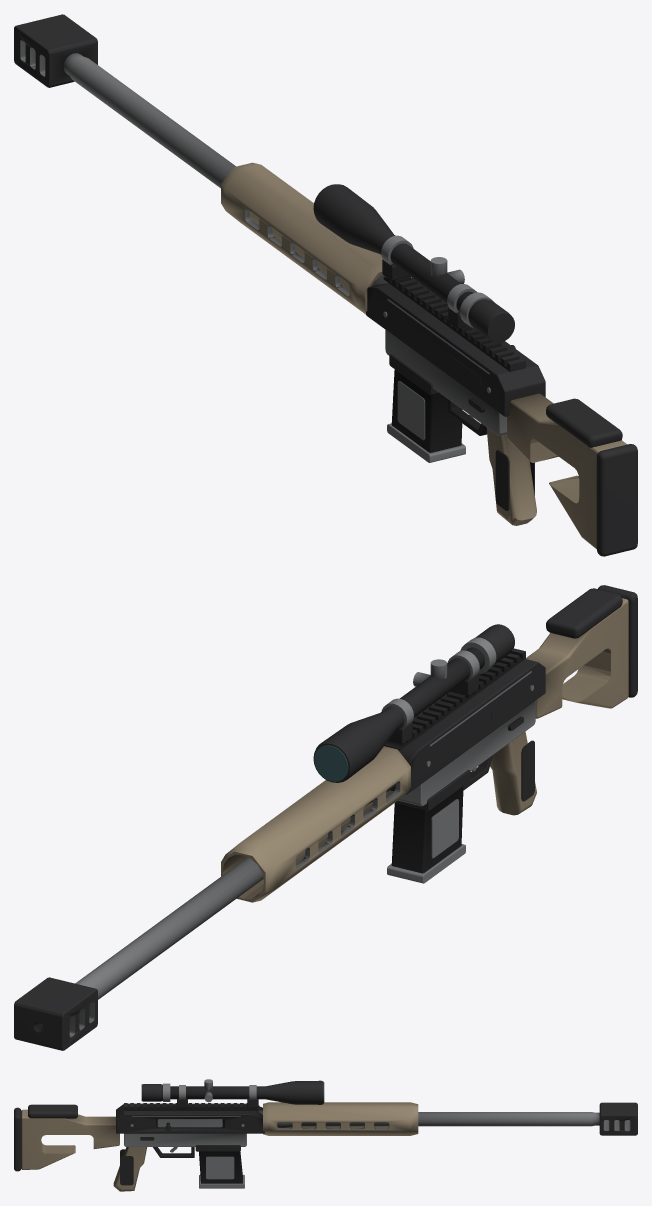
Rendered from ironwood_50.glb.
3 renders of one model, top to bottom at view 1: azimuth 30°, elevation 25°; view 2: azimuth 150°, elevation 25°; view 3: azimuth 270°, elevation 25°, orthographic. The views are drawn at different scales.
Visible parts, largest first — view 1: Receiver, Stock, Optic, Barrel, Magazine, MuzzleBrake; view 2: Receiver, Stock, Optic, Barrel, Magazine, MuzzleBrake, OpticGlass; view 3: Receiver, Stock, Optic, Barrel, Magazine, MuzzleBrake, Bolt.
Boxes of the visible parts, <box> form: Receiver: <box>221,162,545,525</box>; Stock: <box>507,393,637,556</box>; Optic: <box>313,184,514,342</box>; Barrel: <box>63,53,387,286</box>; Magazine: <box>387,369,465,462</box>; MuzzleBrake: <box>14,14,97,87</box>; Receiver: <box>221,648,545,902</box>; Stock: <box>526,585,637,718</box>; Optic: <box>313,624,514,782</box>; Barrel: <box>75,783,395,999</box>; Magazine: <box>387,786,465,883</box>; MuzzleBrake: <box>14,977,97,1050</box>; OpticGlass: <box>314,745,348,781</box>; Receiver: <box>113,1102,418,1191</box>; Stock: <box>14,1104,119,1171</box>; Optic: <box>141,1079,323,1107</box>; Barrel: <box>259,1110,599,1127</box>; Magazine: <box>199,1151,244,1188</box>; MuzzleBrake: <box>599,1102,637,1135</box>; Bolt: <box>157,1119,222,1127</box>.
Size of the model in its own units: 0.0958 by 0.298 by 1.55.
